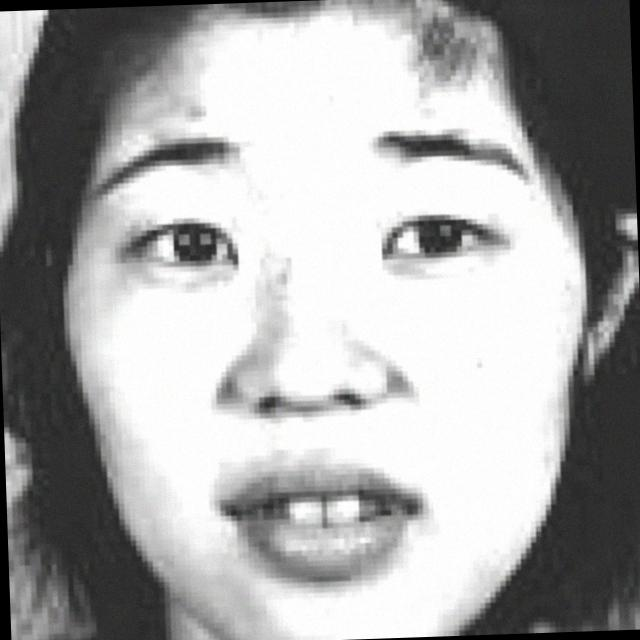fear: (82, 30, 556, 636)
